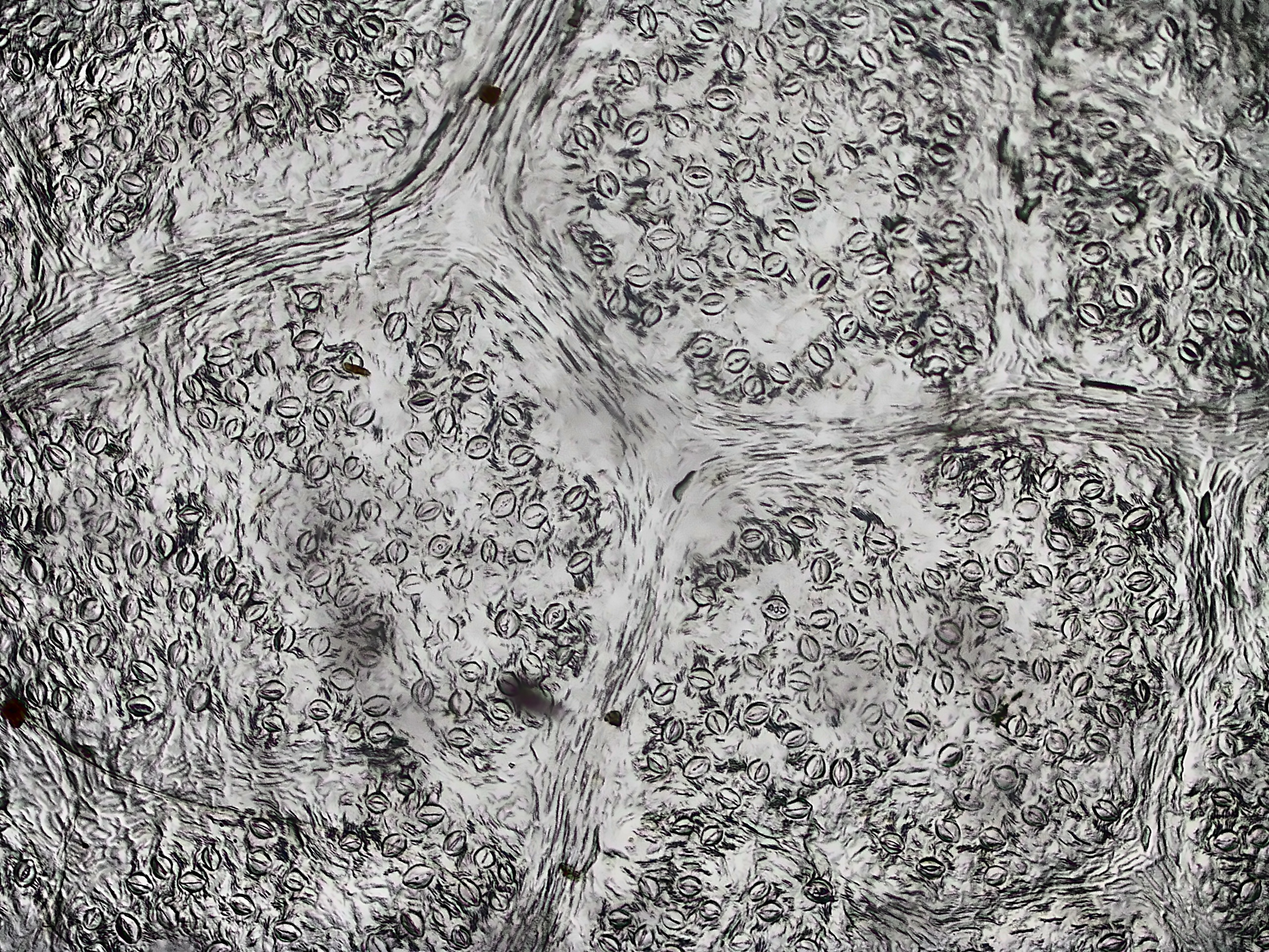stomata: (804, 36, 830, 70), (403, 864, 435, 890), (751, 32, 778, 62), (1227, 203, 1250, 238), (273, 36, 296, 70), (863, 531, 897, 554), (1196, 140, 1222, 170), (20, 555, 47, 583), (246, 849, 274, 876), (129, 659, 159, 684), (186, 682, 211, 712), (496, 607, 521, 637), (760, 595, 790, 620), (721, 42, 746, 72), (953, 787, 984, 811), (42, 443, 70, 469), (116, 914, 142, 942), (810, 267, 838, 293), (889, 17, 917, 43), (804, 878, 833, 903), (25, 676, 48, 707), (143, 24, 168, 52), (314, 106, 342, 131), (895, 332, 923, 357), (934, 620, 962, 645), (1147, 229, 1172, 257), (836, 142, 861, 170), (44, 503, 65, 536), (401, 907, 424, 937), (1011, 497, 1041, 520), (491, 491, 516, 518), (215, 553, 236, 585), (1095, 610, 1127, 631), (1112, 201, 1140, 225), (375, 71, 404, 94), (119, 594, 142, 623), (1113, 281, 1136, 310), (416, 804, 446, 826), (787, 514, 817, 536), (703, 202, 733, 224), (790, 188, 820, 210), (1080, 242, 1110, 264), (697, 293, 728, 314), (250, 102, 276, 127), (79, 597, 104, 623), (1099, 703, 1125, 728), (677, 256, 704, 280), (224, 379, 248, 406), (563, 485, 587, 512), (835, 621, 859, 648), (571, 122, 595, 149), (858, 41, 882, 68), (1044, 729, 1068, 756), (1191, 266, 1218, 290), (175, 546, 198, 574), (329, 667, 357, 690), (436, 615, 459, 643), (655, 54, 678, 82), (1223, 309, 1251, 332), (223, 45, 245, 74), (117, 171, 146, 193), (125, 872, 154, 894), (683, 166, 712, 188), (661, 716, 683, 745), (902, 711, 931, 733), (1123, 507, 1152, 529), (412, 675, 433, 705), (397, 574, 427, 595), (838, 6, 868, 27), (859, 254, 889, 275), (646, 230, 679, 249), (665, 113, 690, 138), (995, 550, 1020, 575), (724, 349, 750, 373), (12, 860, 36, 886), (543, 603, 567, 629), (991, 765, 1017, 789), (156, 901, 179, 928), (458, 878, 481, 905), (596, 170, 619, 197), (933, 818, 960, 841), (177, 872, 208, 892), (253, 349, 275, 377), (48, 622, 70, 650), (248, 816, 276, 838), (449, 688, 471, 716), (878, 112, 906, 134), (830, 759, 852, 787), (1146, 598, 1168, 626), (974, 605, 1002, 627), (1213, 829, 1241, 851), (188, 111, 209, 140), (184, 57, 205, 86), (385, 312, 406, 341), (409, 391, 438, 412), (175, 505, 204, 526), (125, 695, 154, 716), (1020, 806, 1049, 827), (958, 512, 990, 531), (359, 13, 383, 38), (422, 30, 442, 60), (382, 833, 406, 858), (496, 671, 521, 695), (522, 503, 547, 527), (306, 454, 330, 479), (637, 4, 657, 34), (938, 744, 963, 768), (999, 456, 1024, 480), (112, 123, 135, 149), (328, 72, 351, 98), (150, 853, 173, 879), (465, 435, 491, 458), (808, 342, 831, 368), (836, 314, 859, 340), (1055, 778, 1078, 804), (155, 135, 177, 162), (253, 432, 275, 459), (86, 428, 108, 455), (228, 893, 255, 915), (684, 756, 711, 778), (618, 59, 640, 86), (868, 291, 895, 313), (361, 696, 392, 715), (12, 458, 33, 486), (705, 88, 734, 108), (686, 668, 715, 688), (783, 798, 812, 818), (1102, 545, 1131, 565), (979, 827, 1008, 847), (295, 2, 319, 26), (204, 347, 236, 365), (351, 402, 375, 426), (429, 534, 453, 558), (626, 264, 651, 287), (182, 375, 205, 400), (637, 875, 660, 900), (405, 431, 430, 454), (651, 683, 676, 706), (705, 710, 728, 735), (1066, 571, 1091, 594), (1177, 340, 1202, 363), (49, 41, 71, 67), (29, 14, 55, 36), (416, 345, 442, 367), (308, 369, 334, 391), (19, 638, 41, 664), (365, 791, 391, 813), (305, 565, 331, 587), (416, 500, 442, 522), (918, 857, 944, 879), (1156, 15, 1178, 41), (292, 332, 322, 351), (256, 681, 286, 700), (432, 310, 459, 331), (128, 540, 149, 567), (274, 922, 301, 943), (634, 924, 655, 951), (737, 529, 764, 550), (1104, 646, 1131, 667), (1037, 466, 1058, 493), (847, 231, 874, 252), (608, 289, 628, 317), (274, 625, 294, 653), (1125, 571, 1153, 591), (1140, 313, 1160, 341), (334, 38, 358, 61), (150, 83, 174, 106), (313, 403, 336, 427), (112, 471, 135, 495), (442, 831, 465, 855), (473, 845, 496, 869), (488, 699, 512, 722), (847, 579, 870, 603), (931, 670, 954, 694), (1186, 204, 1209, 228), (763, 252, 786, 276), (779, 72, 803, 95), (12, 502, 31, 531), (168, 640, 187, 669), (641, 302, 663, 327), (341, 350, 363, 375), (450, 564, 472, 589), (567, 552, 592, 574), (767, 361, 792, 383), (1086, 733, 1111, 755), (105, 21, 126, 47), (443, 11, 469, 32), (154, 531, 175, 557), (799, 634, 820, 660), (1188, 308, 1214, 329), (209, 90, 236, 110), (354, 646, 381, 666), (507, 445, 534, 465), (811, 557, 831, 584), (1044, 530, 1071, 550), (201, 842, 220, 870), (754, 902, 782, 921), (73, 486, 96, 509), (335, 583, 358, 606), (385, 539, 408, 562), (733, 158, 756, 181), (747, 759, 770, 782), (893, 643, 916, 666), (392, 47, 416, 69), (94, 550, 116, 574), (1071, 673, 1093, 697), (960, 559, 984, 581), (1161, 265, 1183, 289), (106, 211, 131, 232), (787, 671, 812, 692), (804, 754, 825, 779), (1093, 799, 1118, 820), (50, 687, 70, 713), (281, 870, 307, 890), (359, 612, 385, 632), (690, 585, 716, 605), (691, 21, 717, 41), (1076, 304, 1102, 324), (1227, 250, 1247, 276), (81, 141, 100, 168), (86, 57, 105, 84), (585, 245, 612, 264), (1067, 508, 1094, 527), (1217, 730, 1236, 757), (513, 540, 535, 563), (928, 142, 951, 164), (922, 568, 945, 590), (1240, 879, 1262, 902), (1067, 211, 1090, 233), (929, 314, 952, 336), (781, 16, 805, 37), (11, 52, 31, 77), (55, 570, 75, 595), (368, 721, 393, 741), (608, 908, 633, 928), (677, 876, 702, 896), (500, 404, 525, 424), (971, 483, 996, 503), (773, 219, 798, 239), (895, 174, 920, 194), (275, 397, 301, 416), (625, 157, 651, 176), (743, 705, 769, 724), (1062, 613, 1081, 639), (308, 634, 330, 656), (331, 498, 353, 520), (88, 633, 109, 656), (243, 601, 266, 622), (82, 907, 103, 930), (743, 653, 764, 676), (60, 173, 80, 197), (232, 582, 252, 606), (307, 699, 331, 719), (661, 908, 685, 928), (698, 899, 722, 919), (717, 788, 741, 808), (458, 661, 482, 681), (716, 559, 736, 583), (625, 121, 649, 141), (599, 102, 619, 126), (461, 374, 489, 391), (437, 410, 456, 435), (983, 866, 1008, 885), (261, 714, 287, 732), (782, 729, 808, 747), (150, 574, 172, 595), (520, 653, 542, 674), (941, 455, 962, 477), (941, 113, 962, 135), (736, 118, 758, 139), (339, 832, 362, 852), (297, 531, 317, 554), (1030, 565, 1053, 585), (880, 831, 903, 851), (981, 660, 1004, 680), (913, 270, 933, 293), (1132, 677, 1151, 701), (856, 650, 880, 669), (447, 728, 472, 746), (198, 406, 219, 427), (343, 456, 364, 477), (793, 142, 814, 163), (919, 79, 940, 100), (299, 292, 321, 312), (701, 825, 723, 845), (1007, 714, 1027, 736), (874, 726, 894, 748), (97, 512, 116, 535), (672, 817, 695, 836), (802, 112, 825, 131), (179, 587, 197, 611), (1033, 657, 1051, 681), (1053, 170, 1071, 194), (383, 127, 404, 147), (285, 425, 305, 446), (647, 752, 668, 772), (451, 925, 470, 947), (481, 537, 497, 563), (1080, 480, 1103, 498), (957, 346, 980, 364), (744, 376, 764, 396), (861, 703, 881, 723), (225, 418, 244, 439), (973, 688, 992, 709), (807, 609, 829, 627), (555, 645, 574, 665), (690, 338, 711, 356), (891, 220, 912, 238), (498, 862, 515, 884), (749, 882, 771, 899), (1211, 788, 1233, 805), (490, 891, 509, 910), (395, 776, 415, 793), (1096, 121, 1114, 136)
